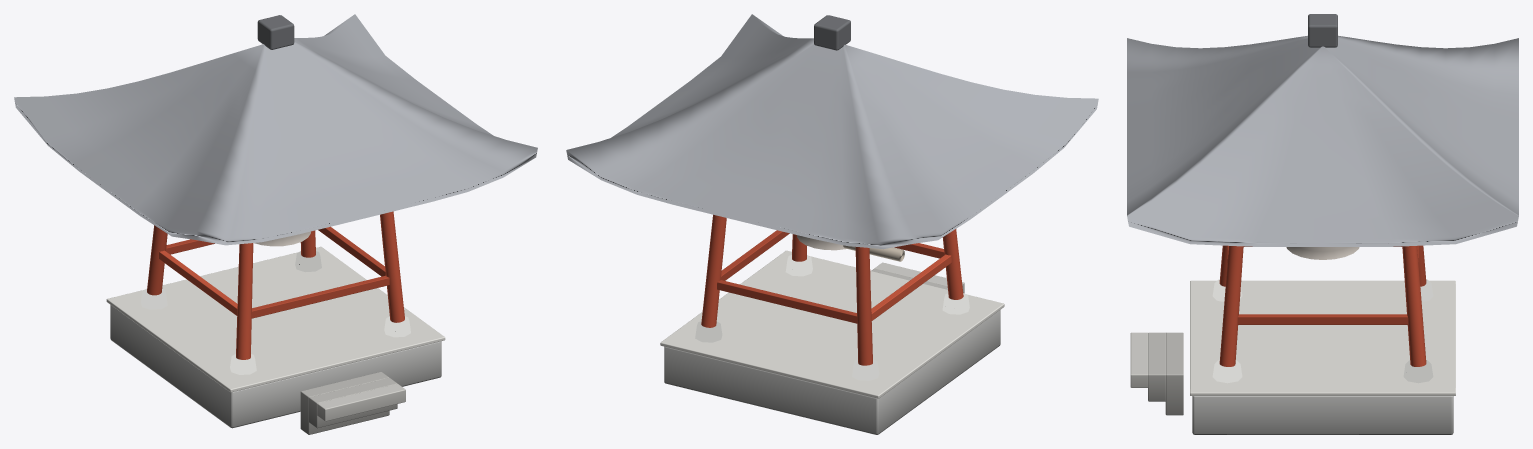
The model's file is bell_tower.glb.
3 renders of one model, left to right at view 1: azimuth 30°, elevation 25°; view 2: azimuth 150°, elevation 25°; view 3: azimuth 270°, elevation 25°, orthographic. The views are drawn at different scales.
Visible parts, largest first — view 1: bell_tower; view 2: bell_tower; view 3: bell_tower.
Part boxes in pixels (x1=…): bell_tower: x1=14, y1=14, x2=537, y2=434; bell_tower: x1=566, y1=14, x2=1098, y2=434; bell_tower: x1=1127, y1=14, x2=1518, y2=434.
Size of the model in its own units: 8.4 by 8.24 by 7.8.
